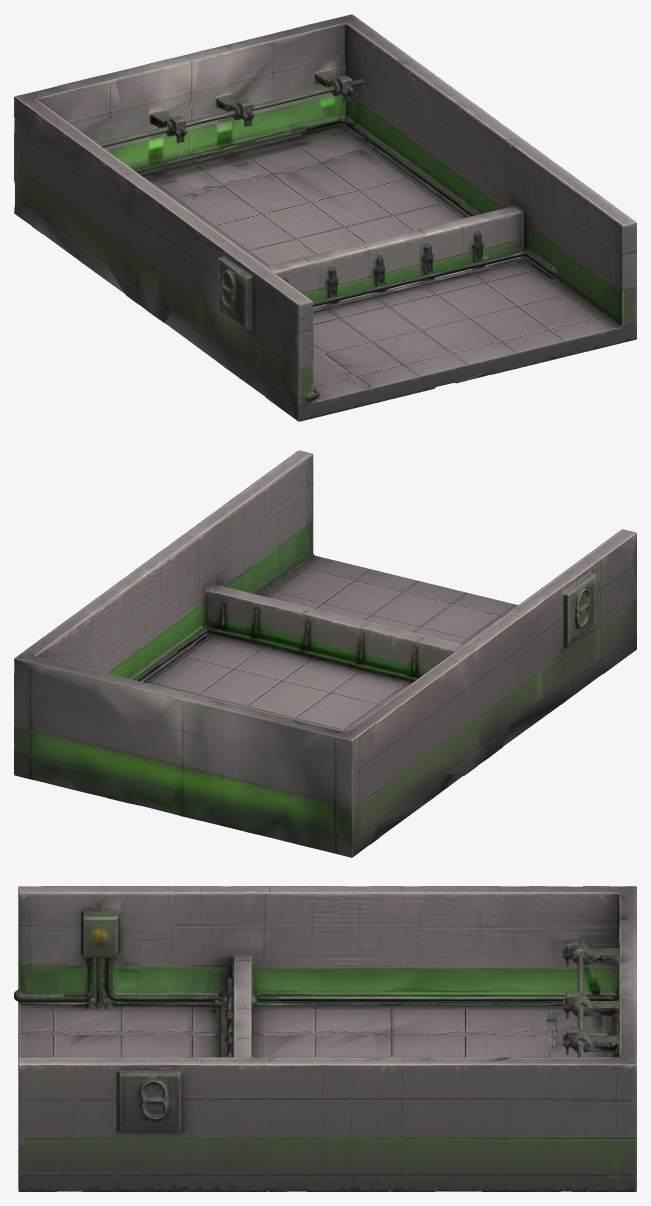
The model's file is Meshy_AI_Containment_Cell_0525005719_texture.fbx.
3 renders of one model, top to bottom at view 1: azimuth 30°, elevation 25°; view 2: azimuth 150°, elevation 25°; view 3: azimuth 270°, elevation 25°, orthographic. The views are drawn at different scales.
Visible parts, largest first — view 1: Mesh_0; view 2: Mesh_0; view 3: Mesh_0.
Boxes of the visible parts, x1,y1,x2,y2 form: Mesh_0: (14,14,636,421); Mesh_0: (14,450,636,857); Mesh_0: (14,886,636,1191).
Bounding box in the file's own units: 138 × 43.12 × 191.
Materials: 1 (1 with a texture image).
